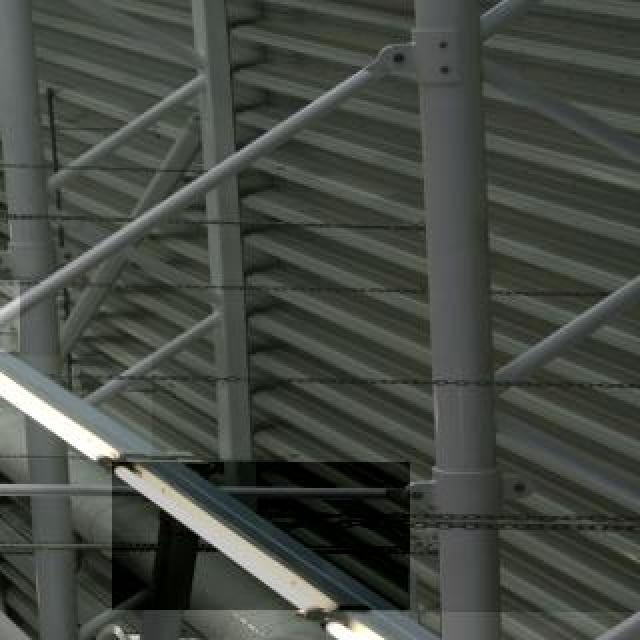fluorescent tube: (101, 462, 383, 614), (0, 340, 148, 478), (314, 614, 640, 640)
